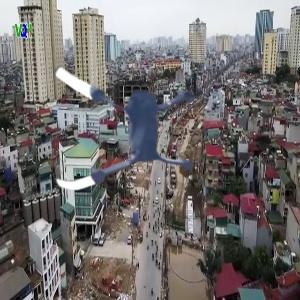drone: (32, 29, 222, 219)
